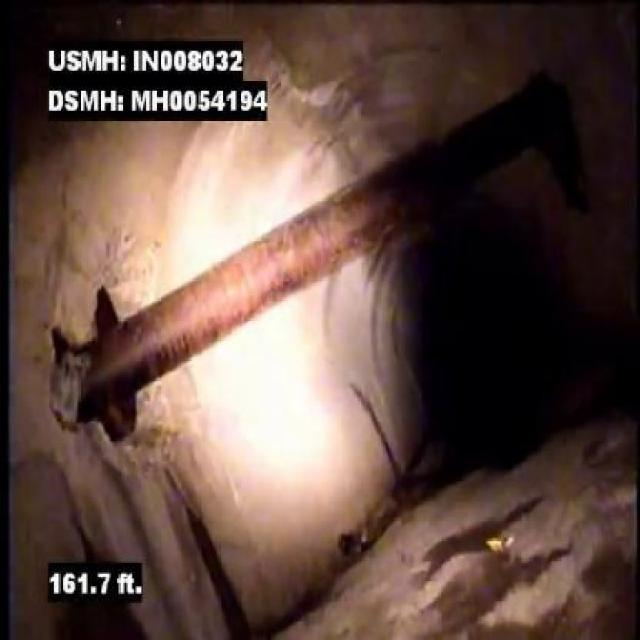Utility intrusion: (79, 188, 383, 448)
